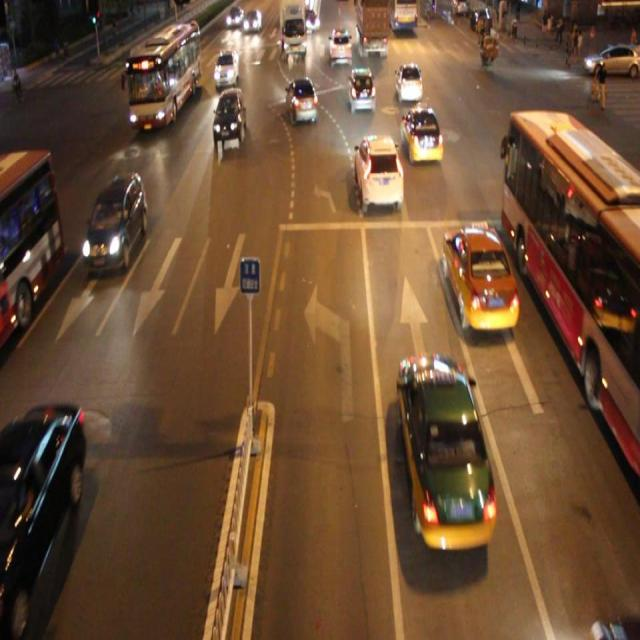car: (396, 349, 496, 547), (1, 402, 83, 640), (444, 225, 517, 328), (83, 171, 147, 277), (353, 133, 403, 210), (400, 104, 442, 164), (210, 88, 244, 142), (284, 76, 317, 124), (346, 66, 376, 114), (394, 61, 422, 104)
van: (500, 111, 640, 475), (0, 148, 62, 354), (129, 23, 200, 131)
